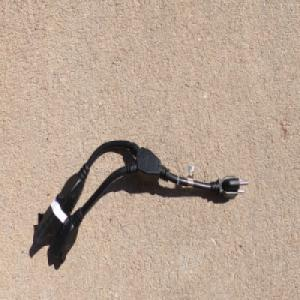Wire: (33, 137, 249, 265)
